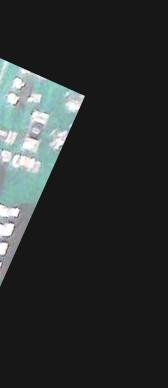chip-capacitor: (10, 149, 42, 175)
chip-resistor: (17, 110, 51, 154), (0, 120, 18, 148), (16, 66, 46, 81)
transistor: (0, 72, 47, 117)
